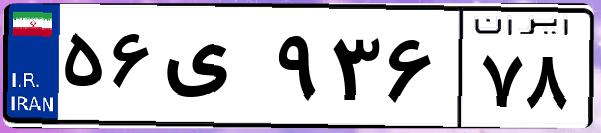3: (330, 28, 385, 110)
5: (57, 26, 110, 100)
6: (385, 28, 445, 110), (110, 28, 158, 98)
7: (475, 38, 525, 113)
8: (525, 38, 570, 115)
9: (270, 28, 330, 110)
ی: (158, 20, 270, 120)
